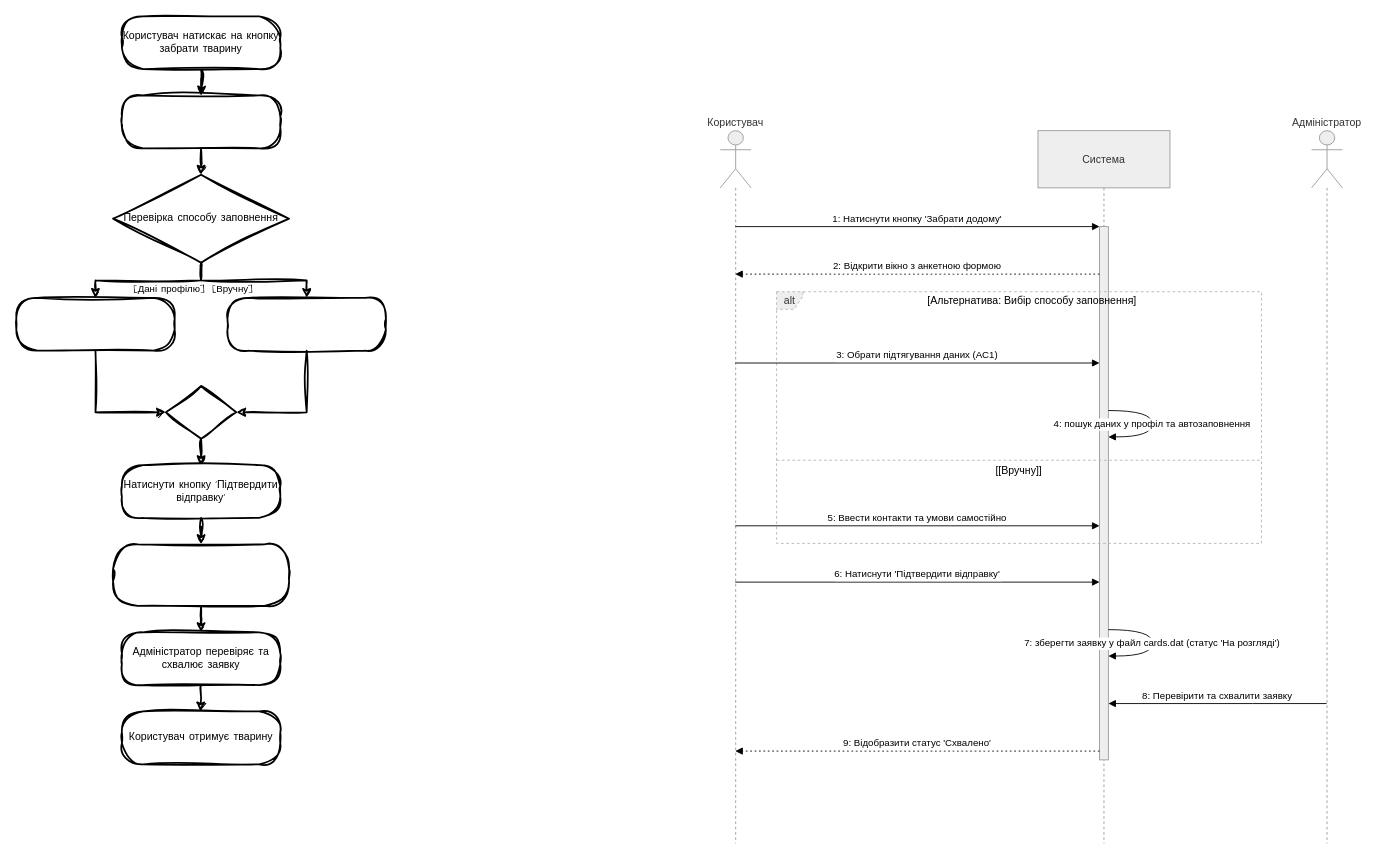
This 1376x859 diagram has some shape labels left out. Each missing label, with the centre of its shape:
Автоматично підтягнути місто та телефон: (95,324)
Ввести контактні дані самостійно: (306,324)
Відкривається вікно з анкетною формою: (201,121)
Зберегти заявку у файл cards.dat зі статусом 'На розгляді': (201,574)
